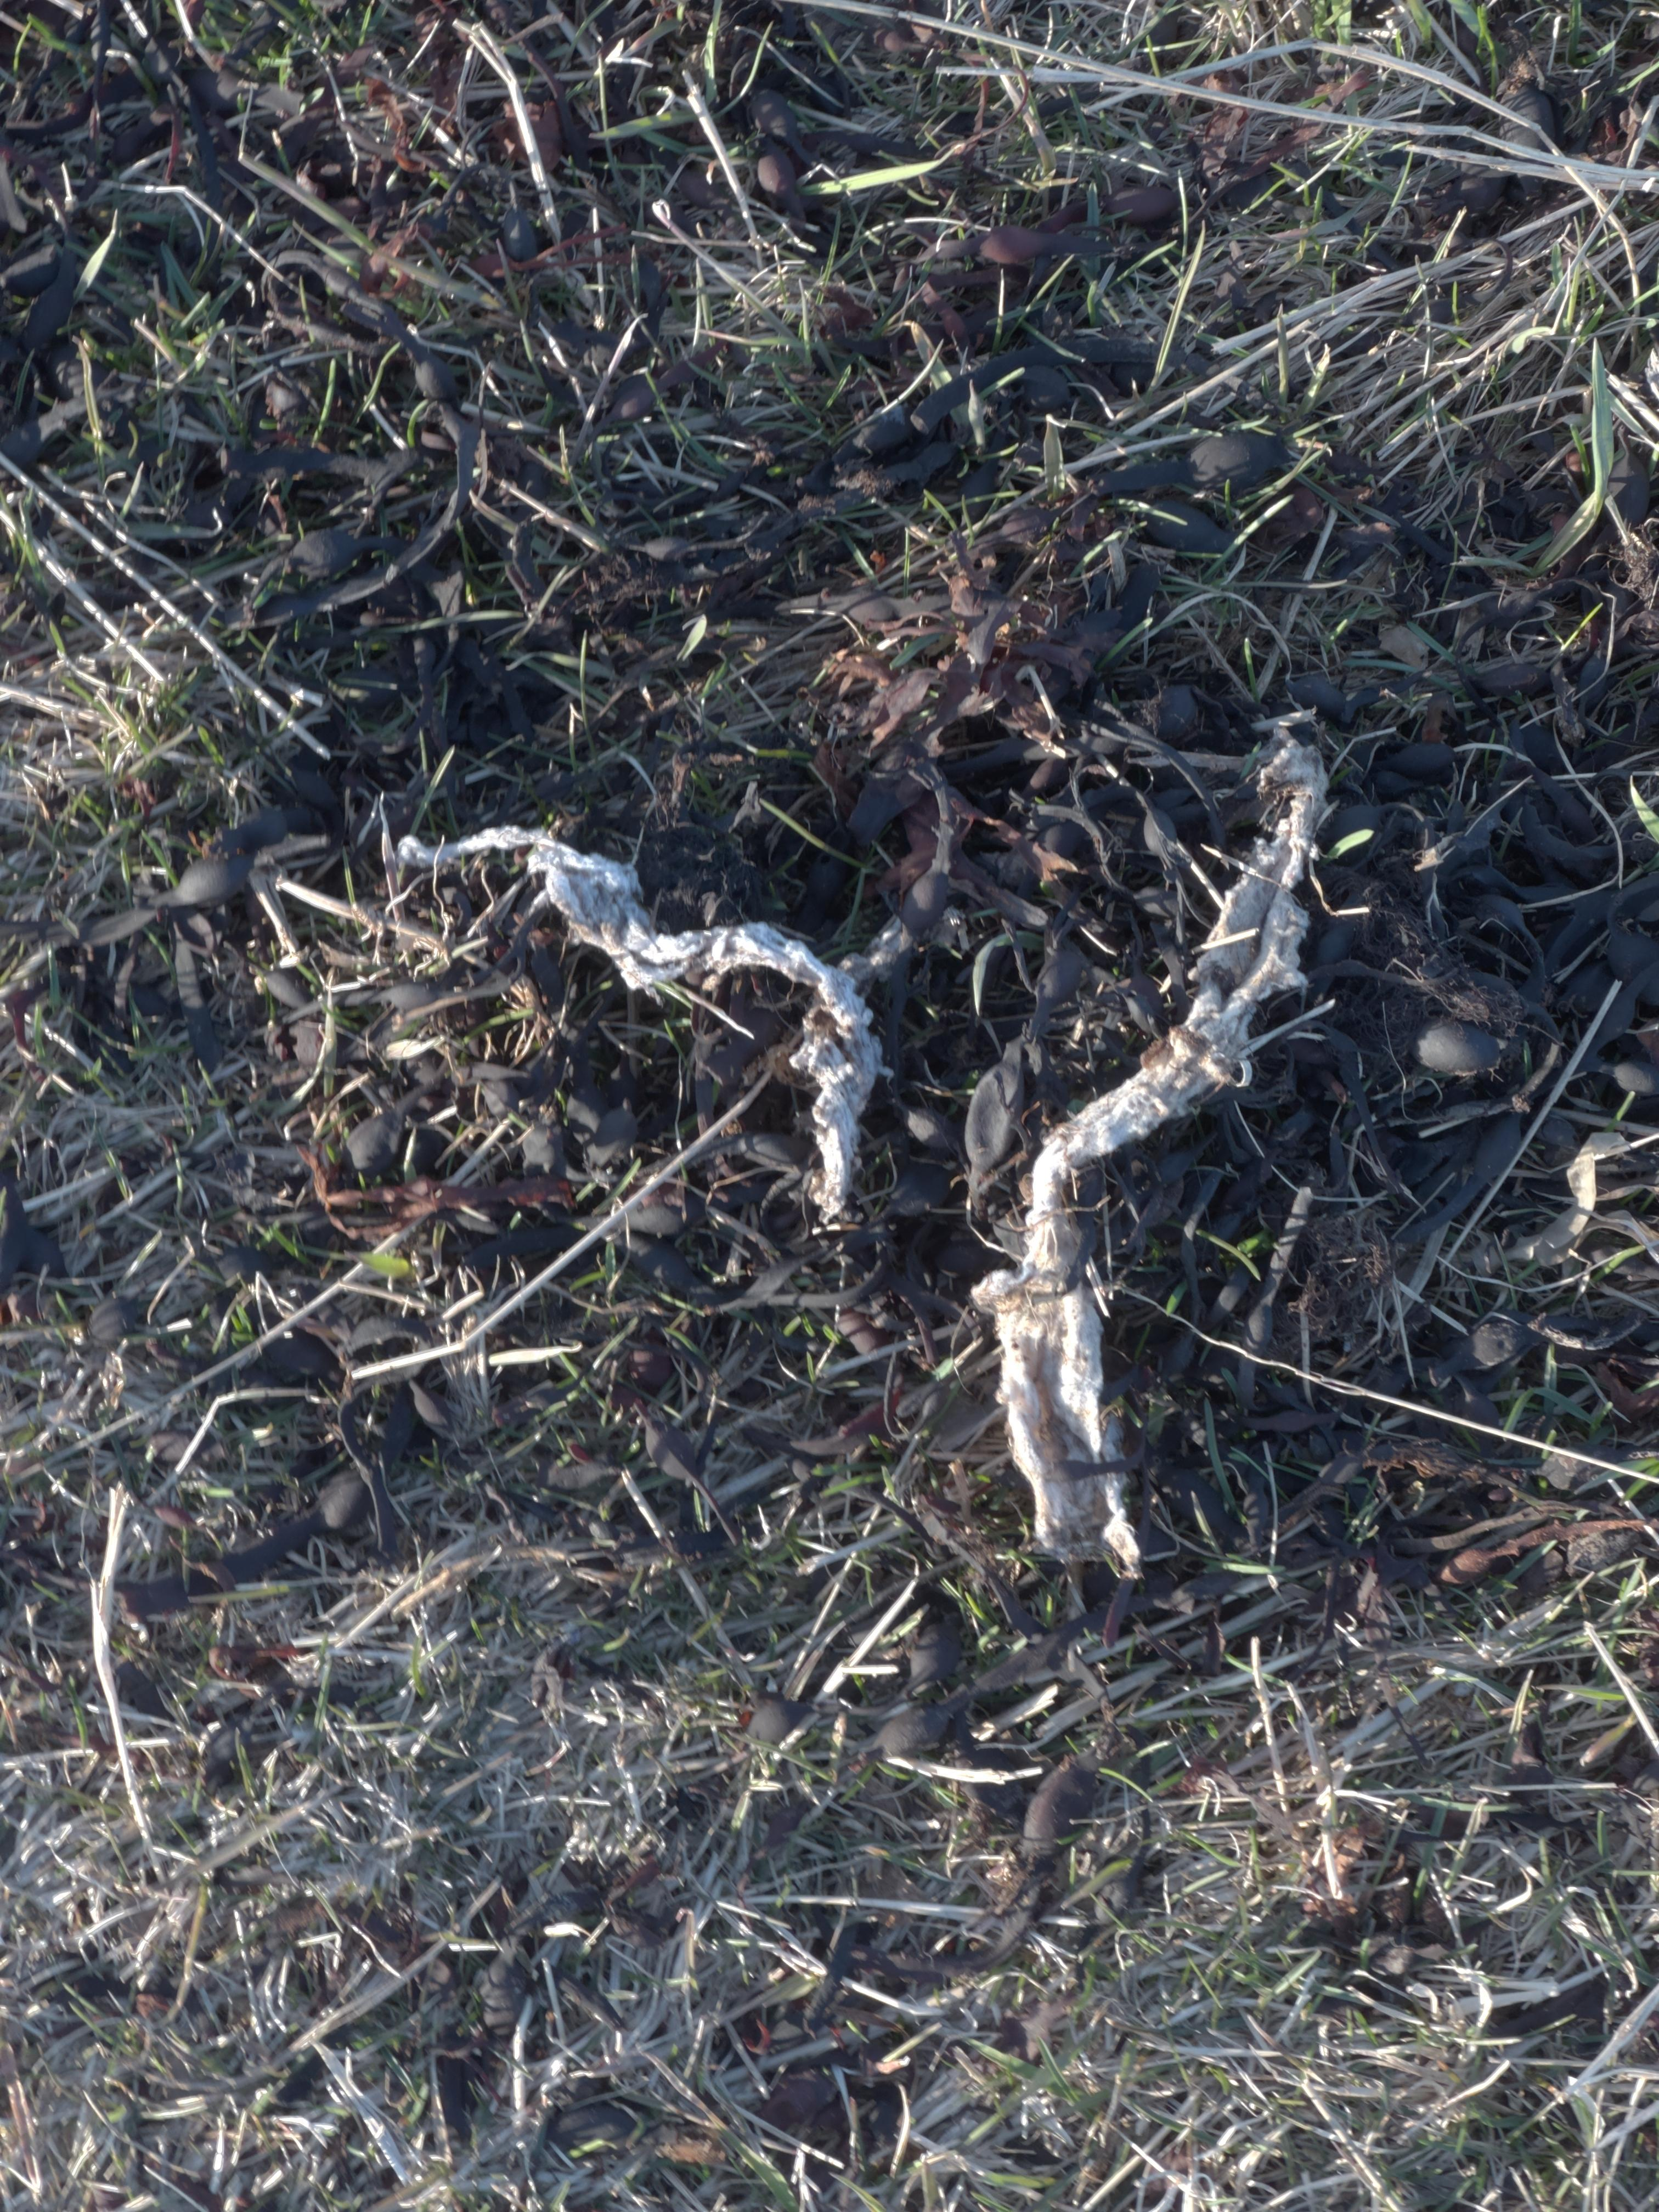trash: (976, 730, 1326, 1576), (397, 826, 882, 1217)
